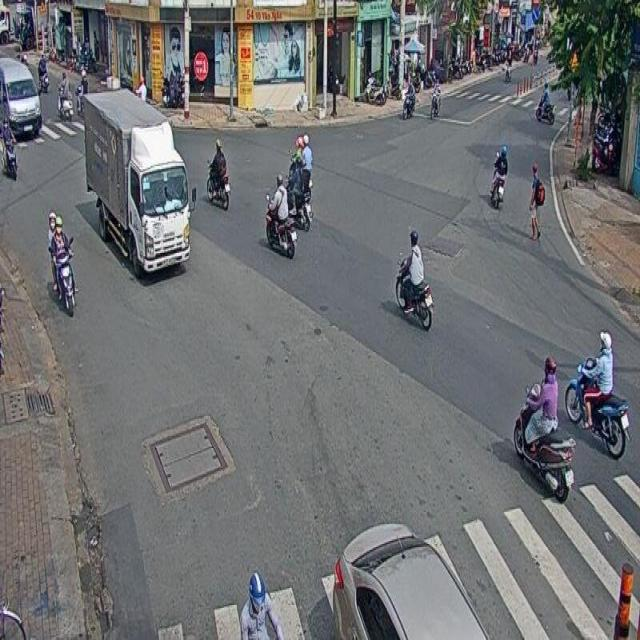car: (333, 522, 488, 640)
motorcycle: (511, 355, 575, 504), (564, 329, 630, 460), (394, 230, 433, 332), (47, 212, 75, 315), (266, 175, 296, 261), (207, 137, 230, 212), (0, 115, 18, 181), (489, 145, 506, 209)
truck: (84, 90, 190, 270)
